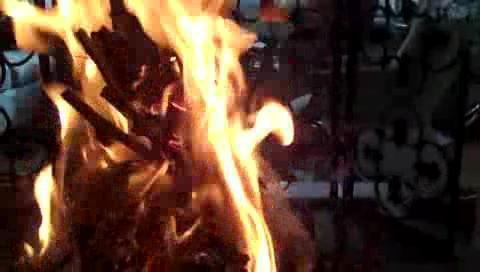fire: (0, 0, 322, 270)
